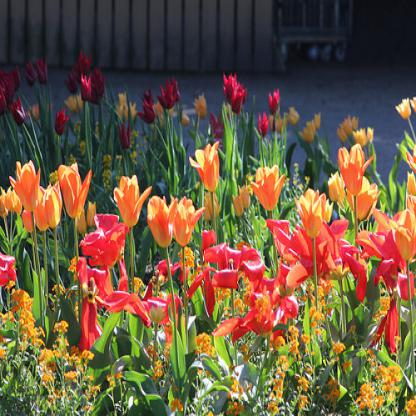TULIP: (7, 118, 404, 367)
